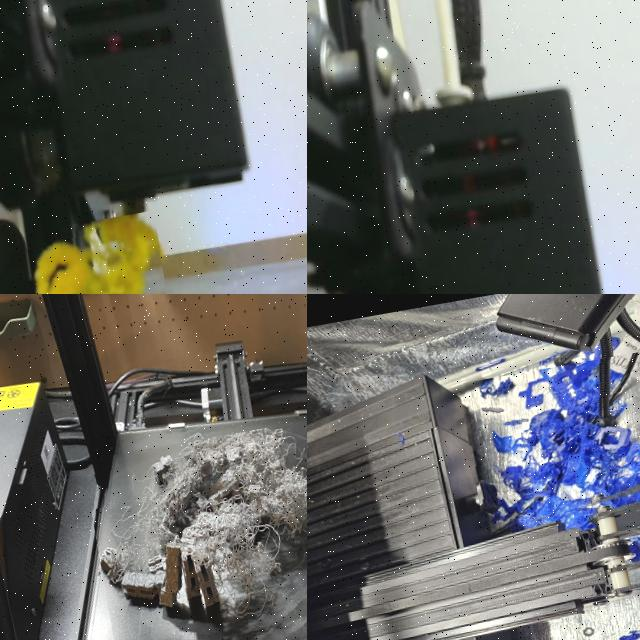spaghetti: (82, 413, 307, 640), (459, 347, 640, 535), (35, 214, 160, 294)
